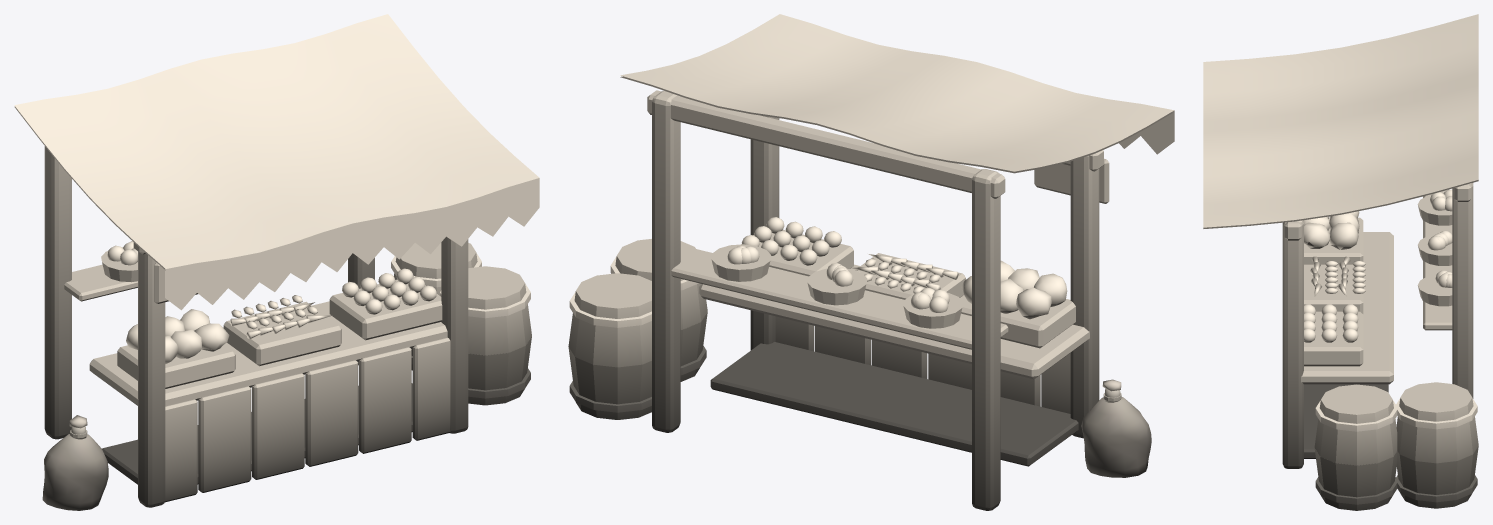
Rendered from SM_VK_MarketStall_Greengrocer.fbx.
The picture shows the model from 3 angles, left to right: view 1: azimuth 30°, elevation 25°; view 2: azimuth 150°, elevation 25°; view 3: azimuth 270°, elevation 25°; orthographic projection. The views are drawn at different scales.
Visible parts, largest first — view 1: SM_VK_MarketStall_Greengrocer.001; view 2: SM_VK_MarketStall_Greengrocer.001; view 3: SM_VK_MarketStall_Greengrocer.001.
Boxes of the visible parts, bbox=[...] form: SM_VK_MarketStall_Greengrocer.001: bbox=[14, 14, 539, 510]; SM_VK_MarketStall_Greengrocer.001: bbox=[568, 14, 1174, 510]; SM_VK_MarketStall_Greengrocer.001: bbox=[1203, 14, 1478, 510].
Bounding box in the file's own units: 4.87 × 3.17 × 2.6.
